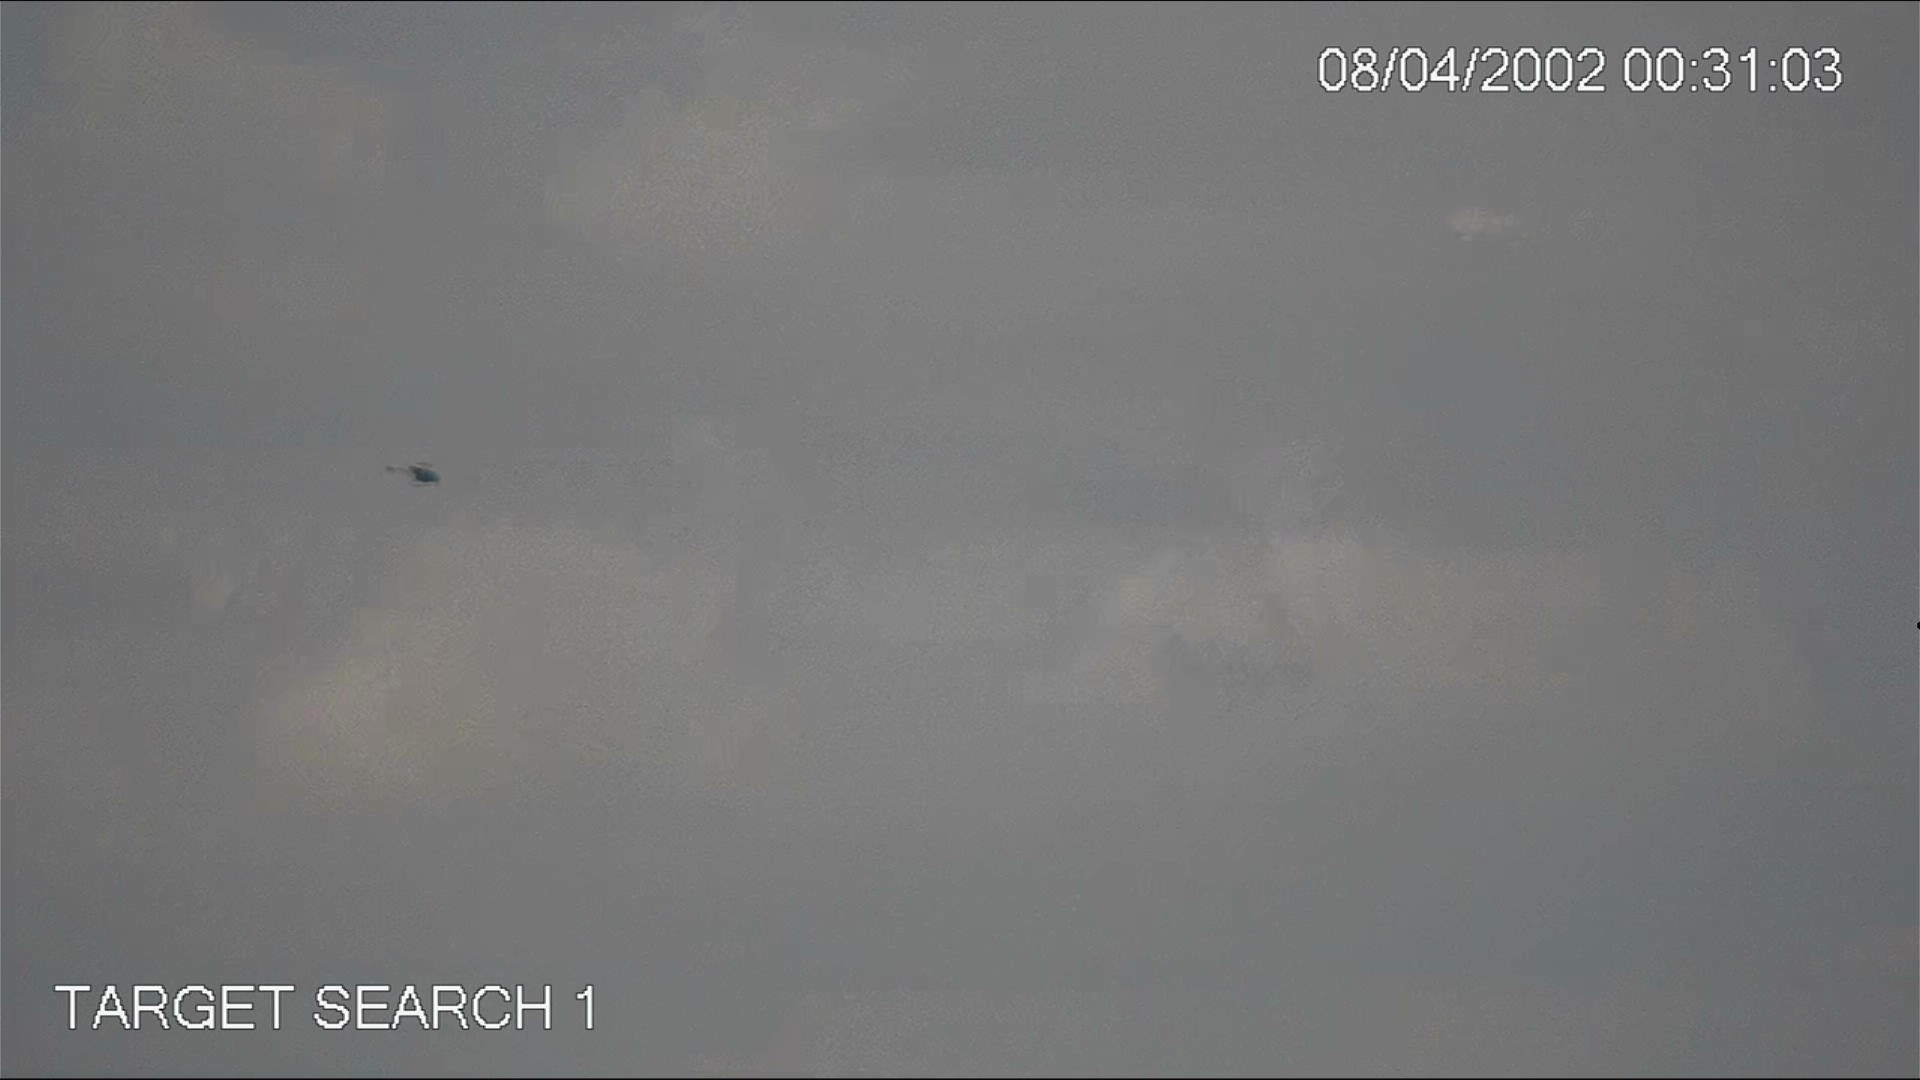SU_30: (380, 458, 448, 495)
